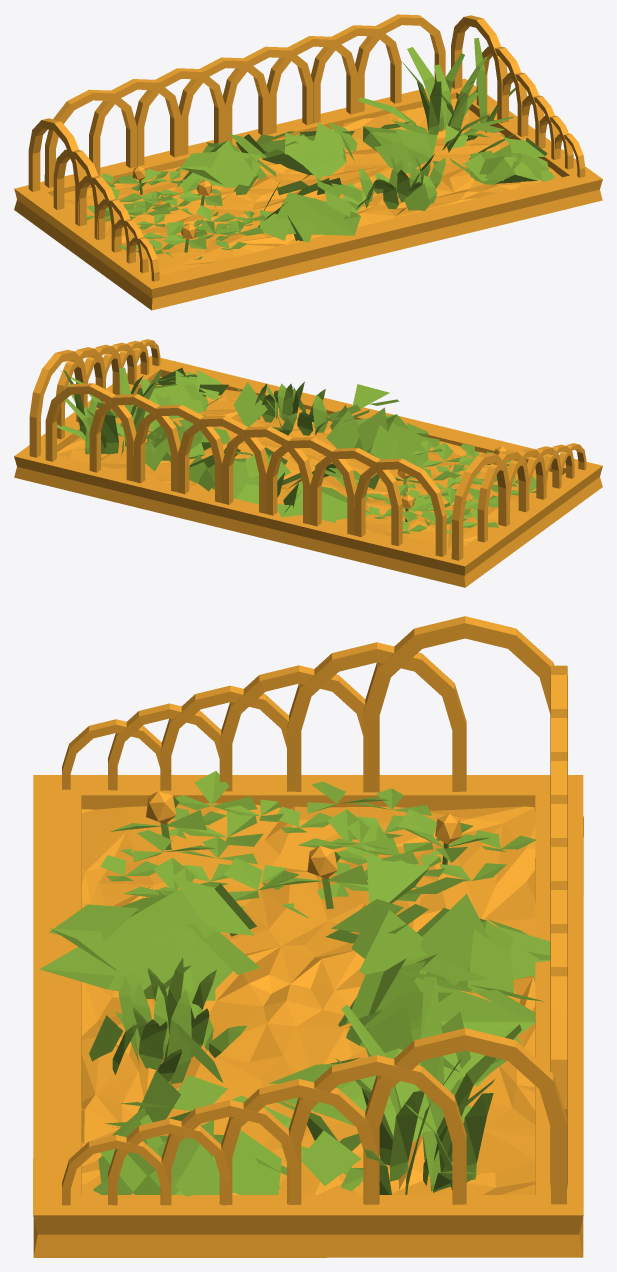
The model's file is SM_Tree_Pot_City_C_2m_Foliage.fbx.
The picture shows the model from 3 angles, top to bottom: view 1: azimuth 30°, elevation 25°; view 2: azimuth 150°, elevation 25°; view 3: azimuth 270°, elevation 25°; orthographic projection. The views are drawn at different scales.
Parts seen in each view (by area): view 1: SM_Tree_Pot_City_C_2m_Foliage; view 2: SM_Tree_Pot_City_C_2m_Foliage; view 3: SM_Tree_Pot_City_C_2m_Foliage.
Boxes of the visible parts, x1,y1,x2,y2 form: SM_Tree_Pot_City_C_2m_Foliage: [14, 14, 602, 310]; SM_Tree_Pot_City_C_2m_Foliage: [14, 339, 602, 587]; SM_Tree_Pot_City_C_2m_Foliage: [33, 616, 583, 1257].
Size of the model in its own units: 2.14 by 0.521 by 1.13.
